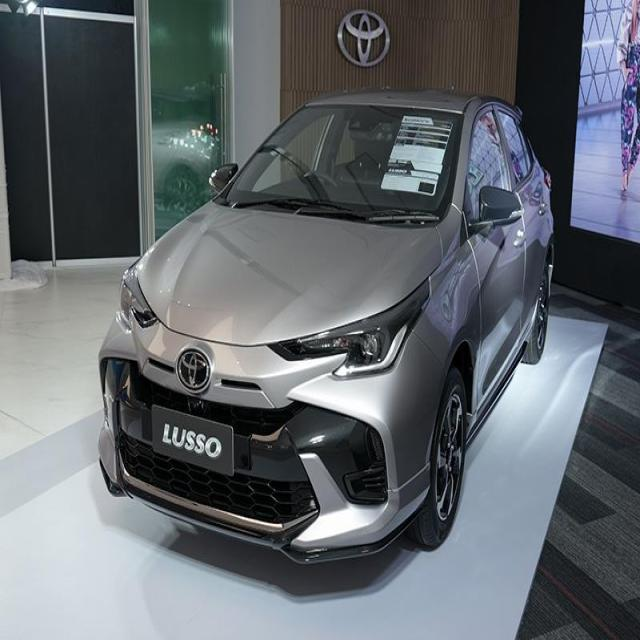Hatchback: (98, 88, 554, 563)
